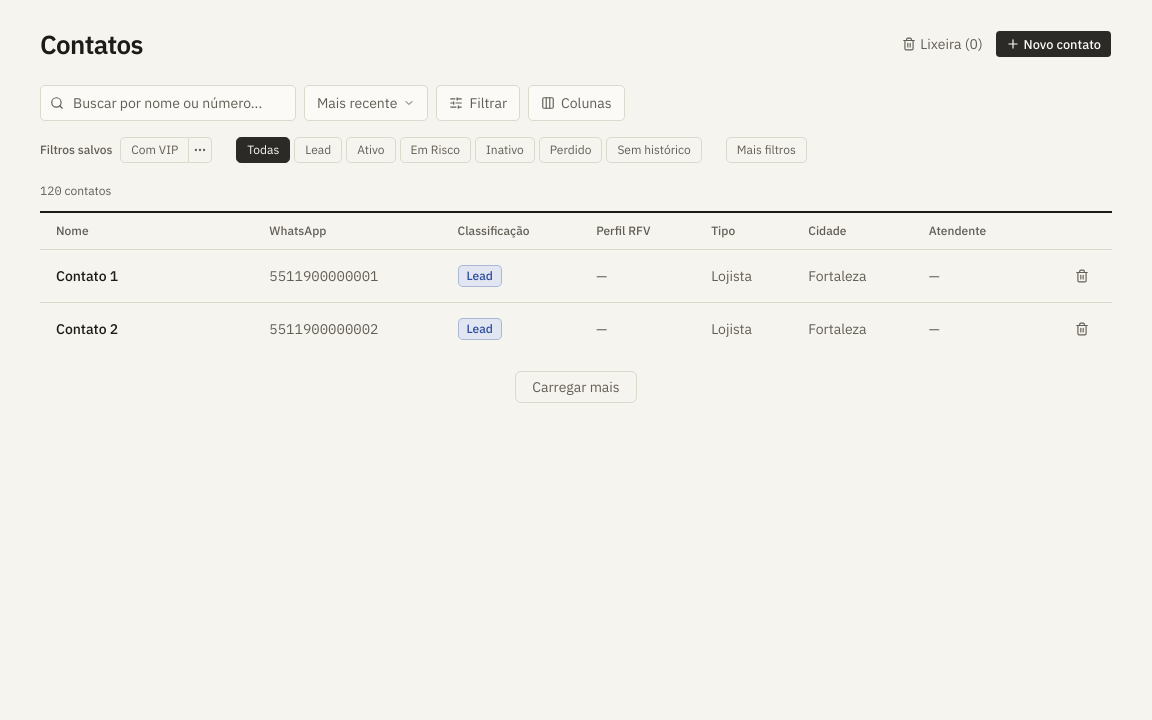
B37-03 — filtros salvos na lista de contatos › CA-B37-33: should marcar no painel a condição cujo valor não existe mais
This screenshot has width=1152, height=720.
Click the button "Com VIP" at (155, 150), box [120,136,189,162]
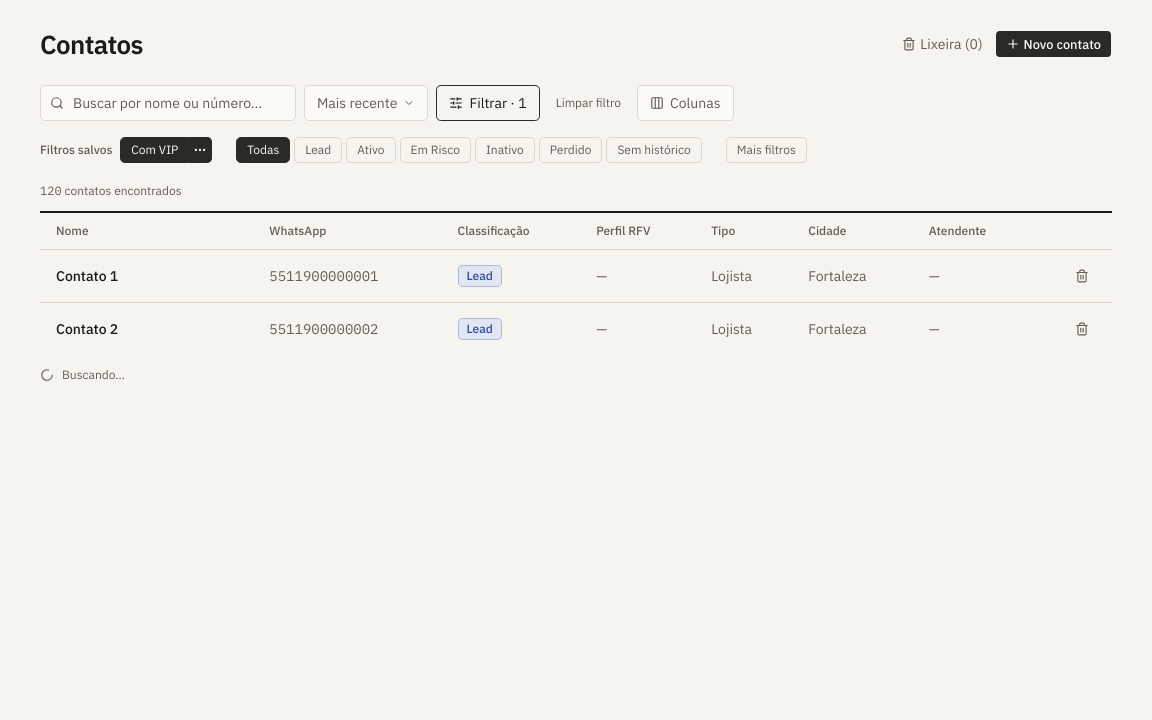
Click the button "Filtrar · 1" at (488, 102), box [436,84,540,120]
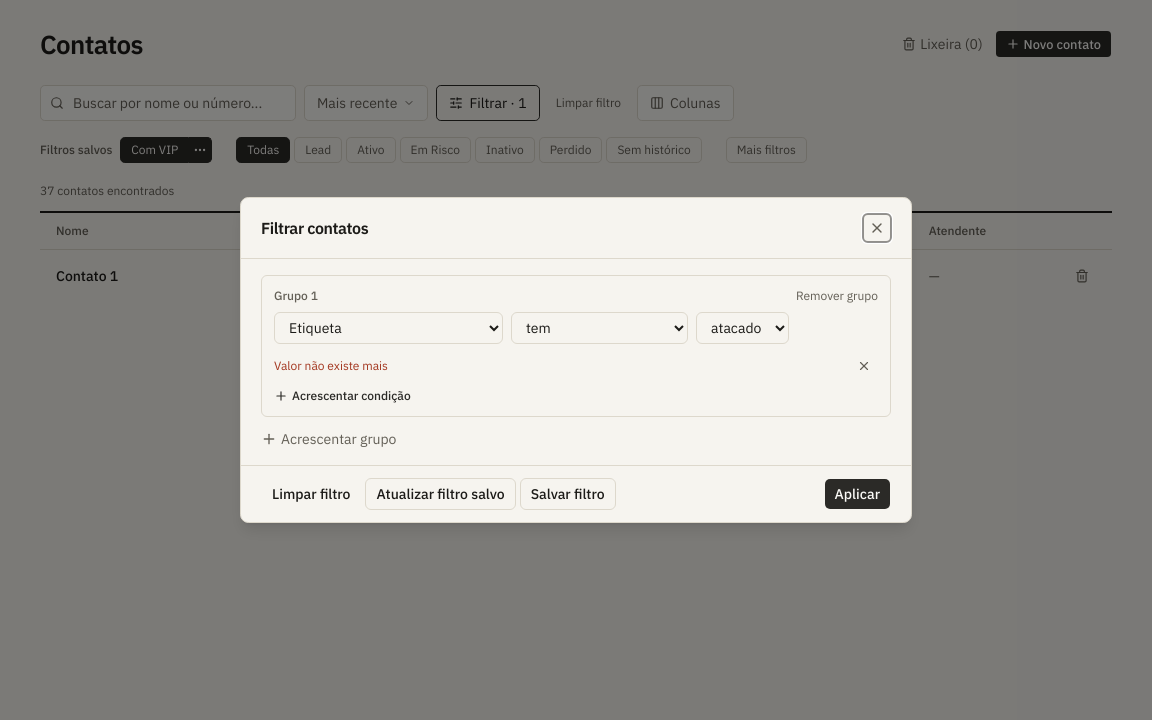
Check: the text "Valor não existe mais" is shown, box [274,358,388,374]
